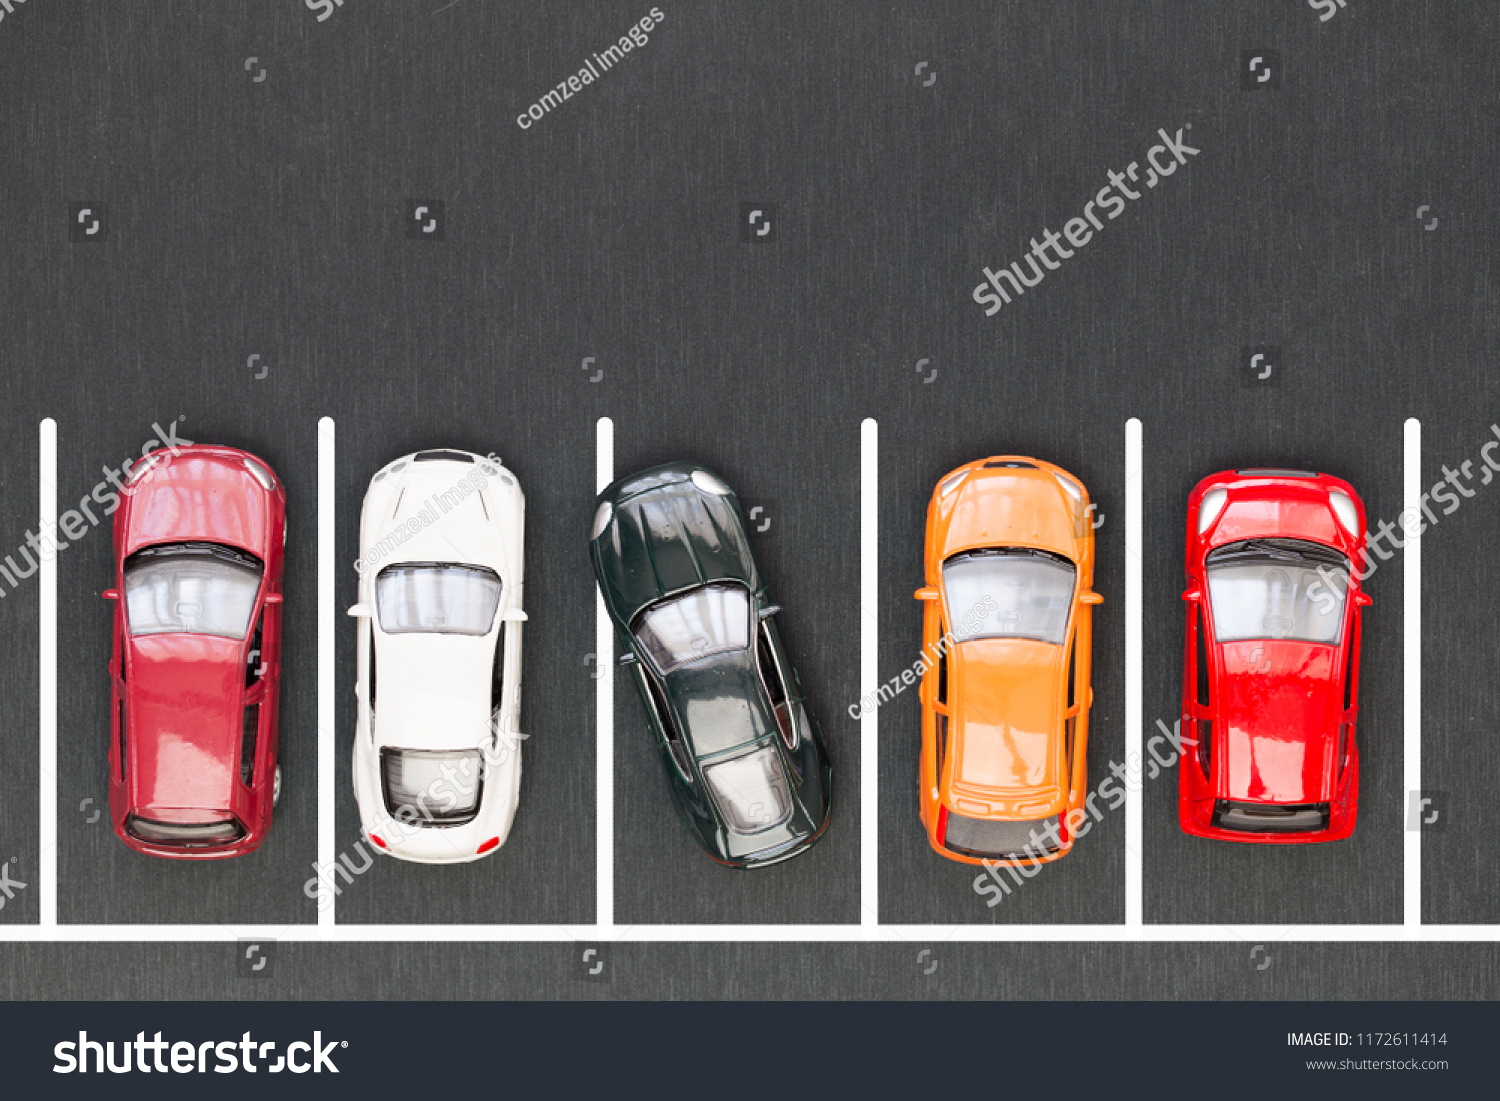Car: (92, 442, 293, 871), (342, 437, 538, 868), (1170, 459, 1379, 855), (911, 452, 1101, 871)
LaneMark: (5, 924, 1500, 944), (1124, 414, 1147, 924), (856, 414, 877, 926), (38, 416, 57, 929), (1403, 416, 1420, 929), (321, 416, 337, 926), (593, 624, 615, 923), (593, 411, 613, 482)
